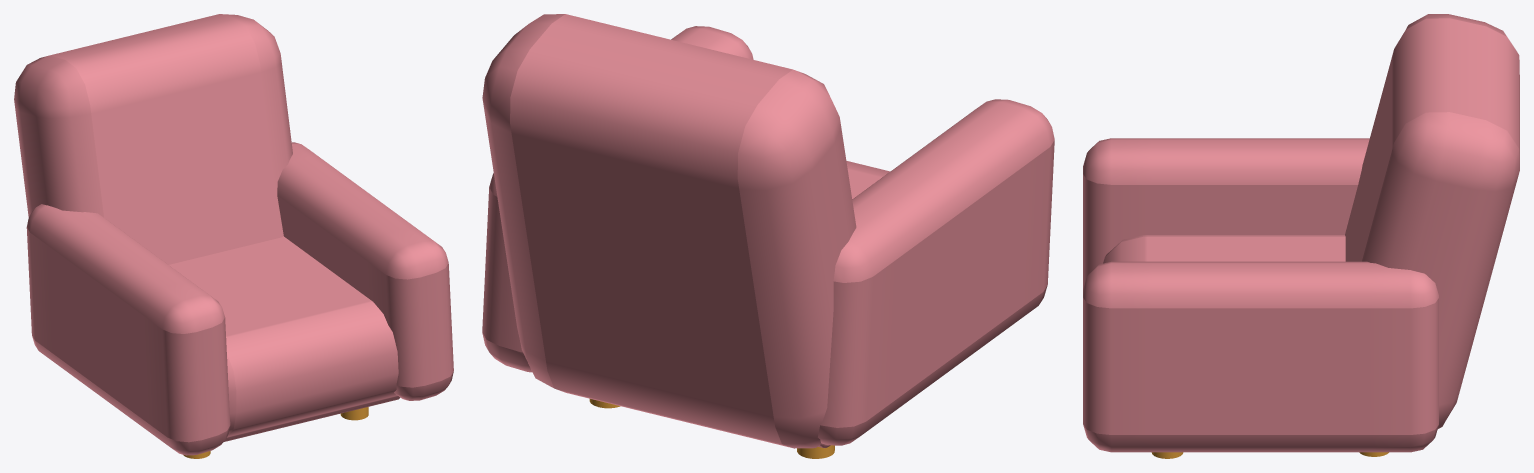
File: couchSessel.fbx
3 views of the same model, side by side, from view 1: azimuth 30°, elevation 25°; view 2: azimuth 150°, elevation 25°; view 3: azimuth 270°, elevation 25° (orthographic). The views are drawn at different scales.
Parts seen in each view (by area): view 1: pasted__pCube11, pasted__pCube9, pasted__pCube8, pasted__pCube10, pasted__pCube12; view 2: pasted__pCube11, pasted__pCube9, pasted__pCube10, pasted__pCube8; view 3: pasted__pCube10, pasted__pCube11, pasted__pCube9, pasted__pCube8.
Boxes of the visible parts, x1,y1,x2,y2 form: pasted__pCube11: [14, 14, 292, 264]; pasted__pCube9: [26, 204, 230, 455]; pasted__pCube8: [169, 236, 398, 436]; pasted__pCube10: [277, 142, 453, 400]; pasted__pCube12: [224, 395, 400, 441]; pasted__pCube11: [482, 14, 856, 448]; pasted__pCube9: [818, 99, 1054, 445]; pasted__pCube10: [482, 26, 753, 372]; pasted__pCube8: [846, 161, 890, 198]; pasted__pCube10: [1083, 261, 1438, 452]; pasted__pCube11: [1345, 14, 1519, 428]; pasted__pCube9: [1083, 138, 1369, 289]; pasted__pCube8: [1103, 235, 1345, 263].
Size of the model in its own units: 1.16 by 1.17 by 1.35.
